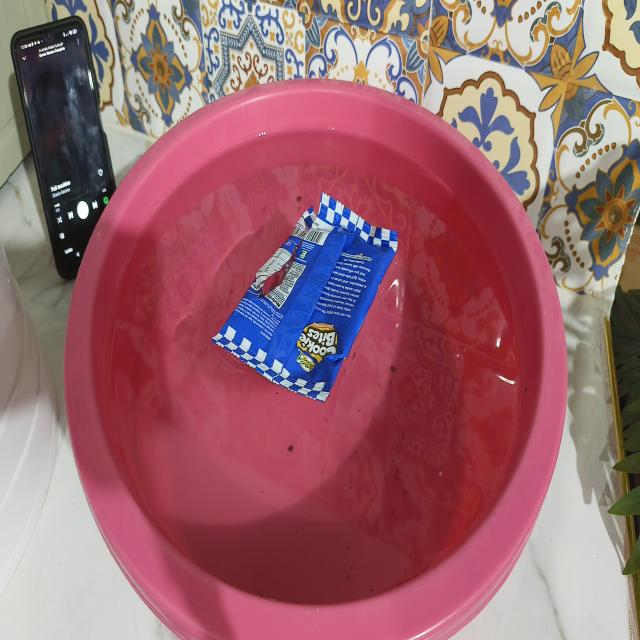Plastic Wrapper: (200, 161, 417, 422)
